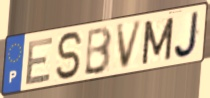B: (83, 24, 114, 77)
E: (23, 35, 55, 88)
J: (172, 9, 201, 61)
M: (140, 15, 176, 67)
S: (55, 30, 85, 82)
V: (115, 18, 145, 72)
